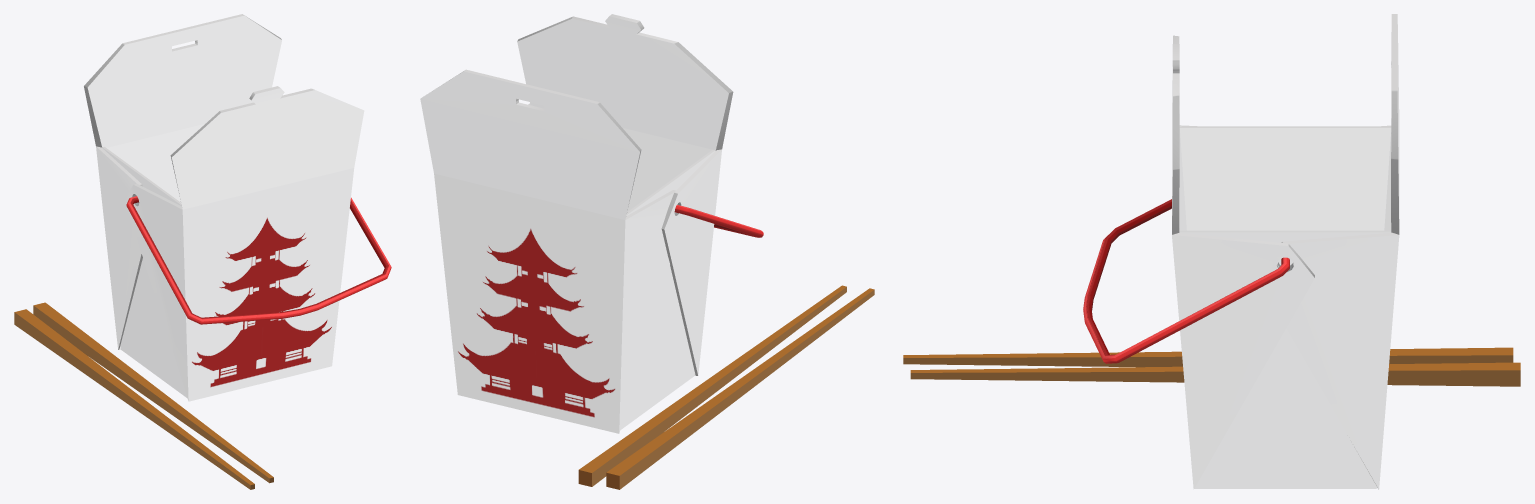
File: comida china.glb
3 views of the same model, side by side, from view 1: azimuth 30°, elevation 25°; view 2: azimuth 150°, elevation 25°; view 3: azimuth 270°, elevation 25° (orthographic). The views are drawn at different scales.
Visible parts, largest first — view 1: Chinese_Takeout_Container_With_Chopsticks.1; view 2: Chinese_Takeout_Container_With_Chopsticks.1; view 3: Chinese_Takeout_Container_With_Chopsticks.1.
Boxes of the visible parts, box(x1,y1,x2,y2) form: Chinese_Takeout_Container_With_Chopsticks.1: box(14, 14, 391, 489); Chinese_Takeout_Container_With_Chopsticks.1: box(420, 14, 874, 489); Chinese_Takeout_Container_With_Chopsticks.1: box(903, 14, 1520, 489).
Size of the model in its own units: 0.1877 by 0.2374 by 0.3386.
Materials: 1 (1 with a texture image).
